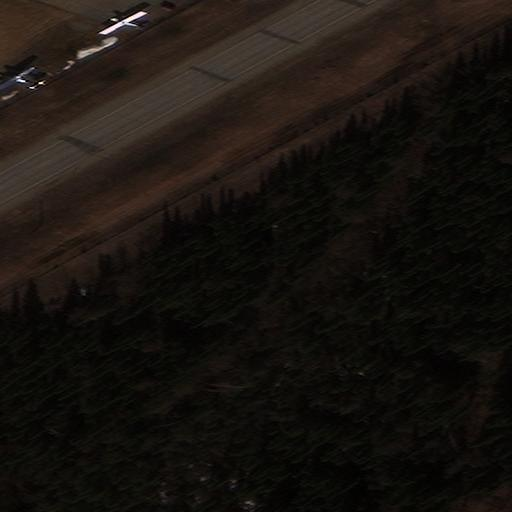Small Civil Transport: (96, 10, 144, 34), (0, 66, 38, 90)
